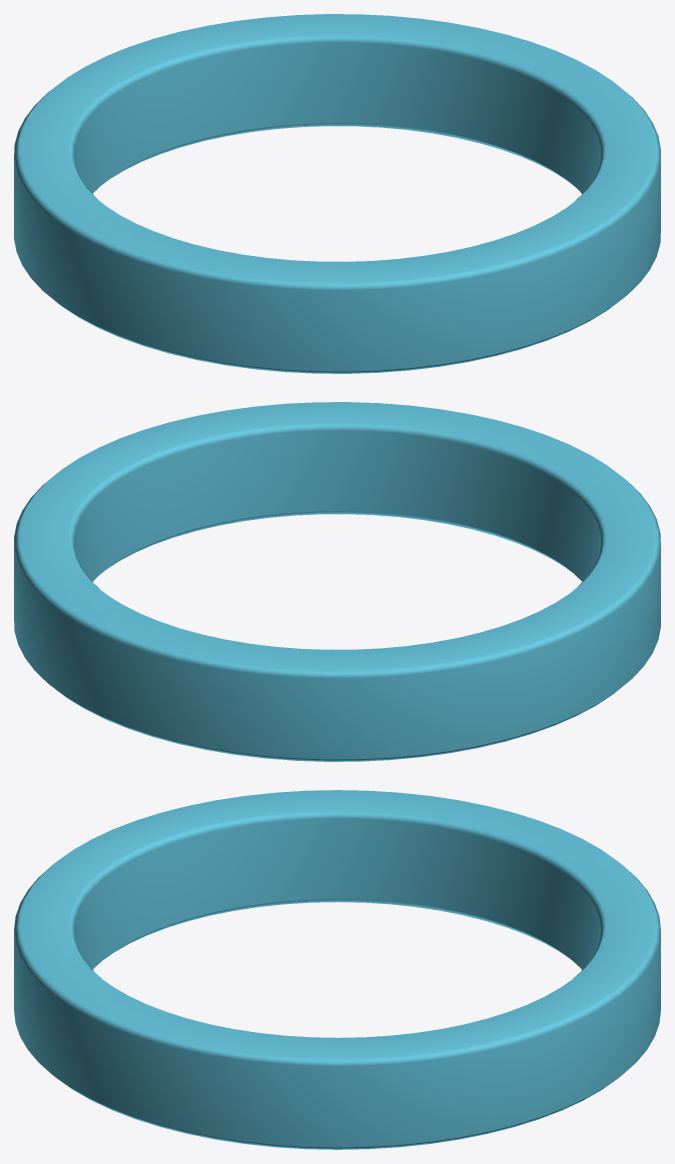
The picture shows the model from 3 angles, top to bottom: view 1: azimuth 30°, elevation 25°; view 2: azimuth 150°, elevation 25°; view 3: azimuth 270°, elevation 25°; orthographic projection.
Parts seen in each view (by area): view 1: seal_body; view 2: seal_body; view 3: seal_body.
Boxes of the visible parts, x1=… form: seal_body: x1=14, y1=14, x2=660, y2=373; seal_body: x1=14, y1=402, x2=660, y2=761; seal_body: x1=14, y1=790, x2=660, y2=1149.
Bounding box in the file's own units: 0.0508 × 0.00793 × 0.0508.
